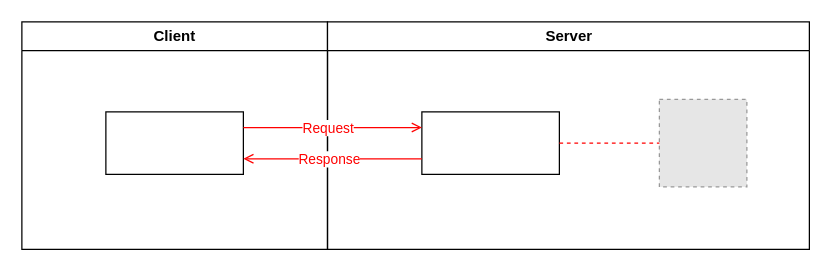
Image size: 831x271. Some labels were removed from this diagram. Grey dashed boxes stand in for pictures. Here are the shapes that lost their labels. From the top down, the centre of each, then its label:
At point 174,142: "Web App (React)".
At point 490,142: "REST APIs (Flask)".
